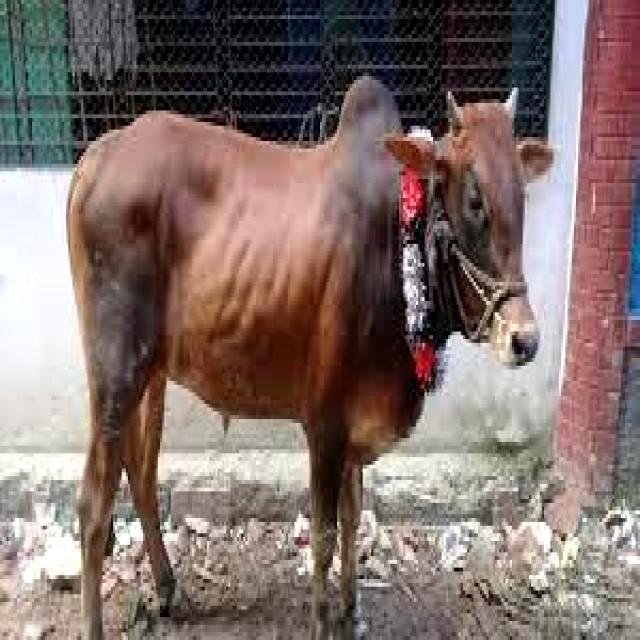COW: (69, 76, 536, 640)
